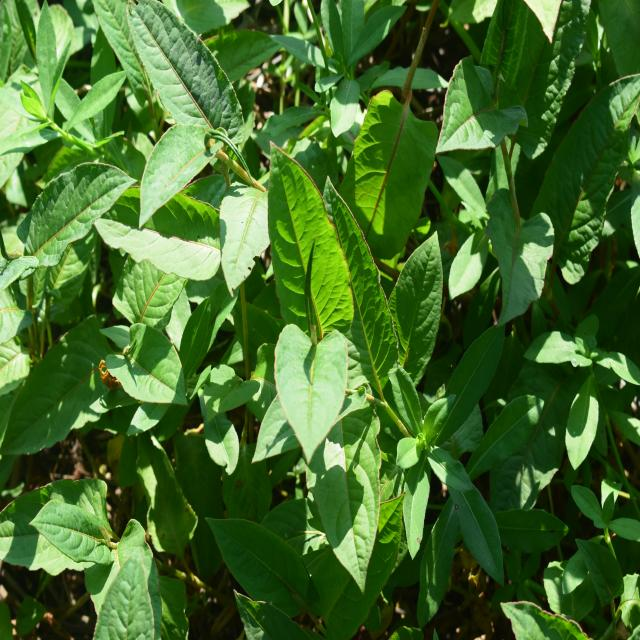Chinese_knotweed: (256, 163, 434, 558), (112, 6, 284, 346)
